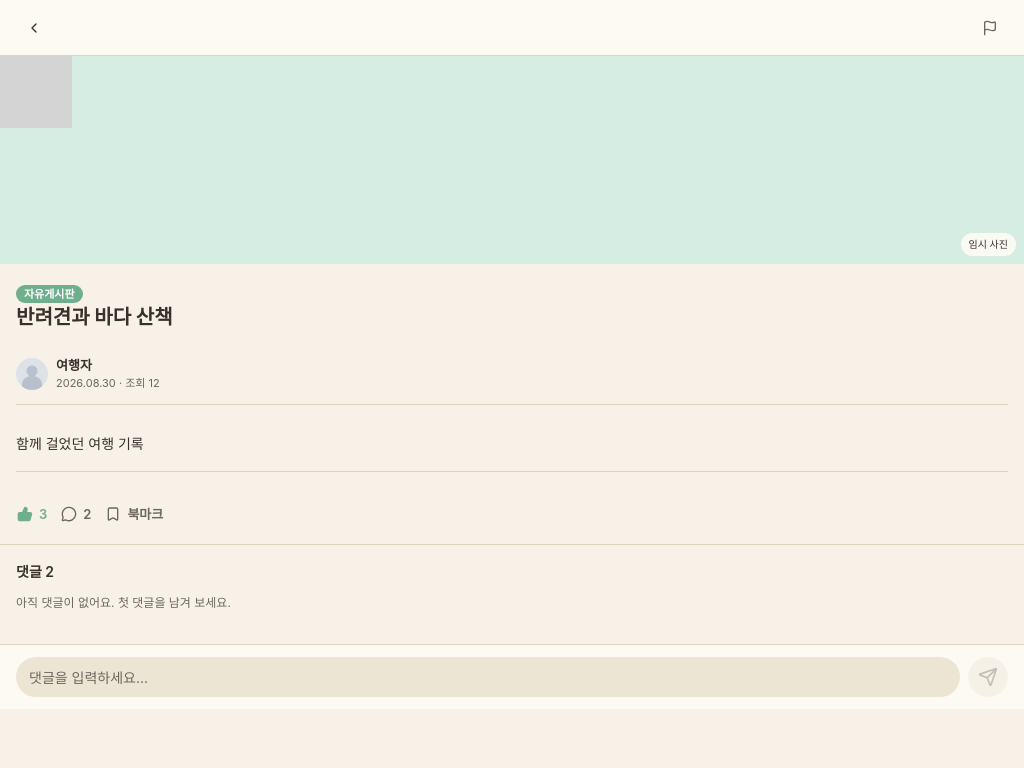
live community board › hydrates a recommended server flag and preserves it on cancellation failure
Later steps or results of the test are not shown.
Click the button named "추천 취소".
click(32, 514)  # box [16,496,48,532]
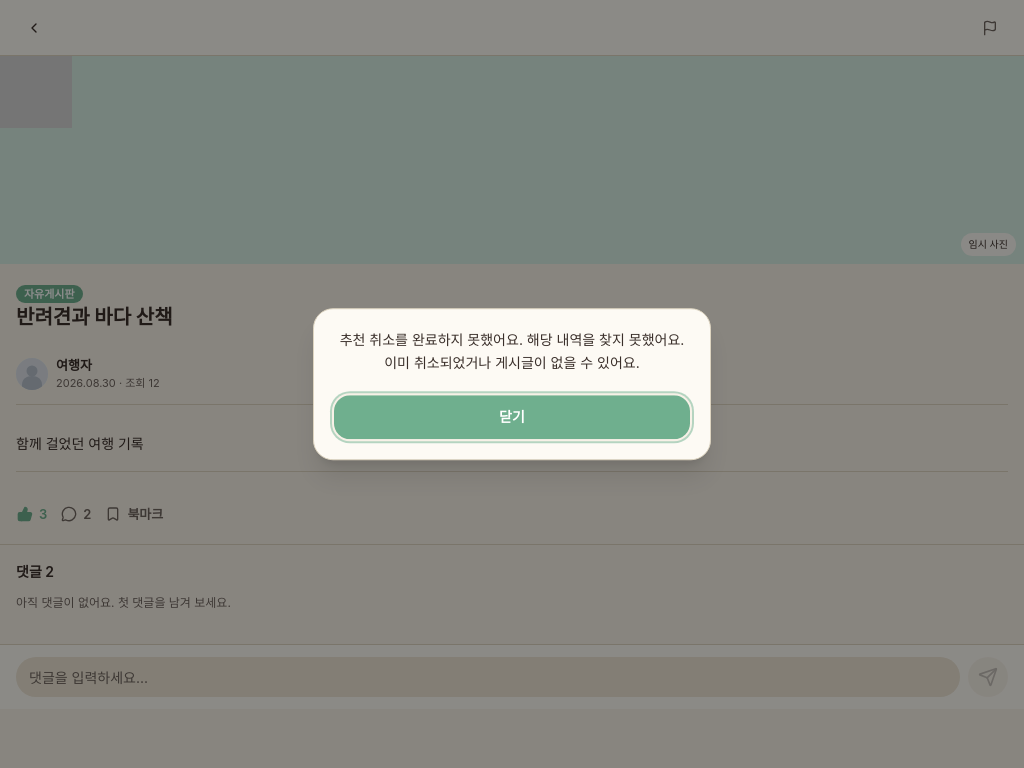
Expected: the dialog shows "추천 취소를 완료하지 못했어요", [340,331,688,371]
